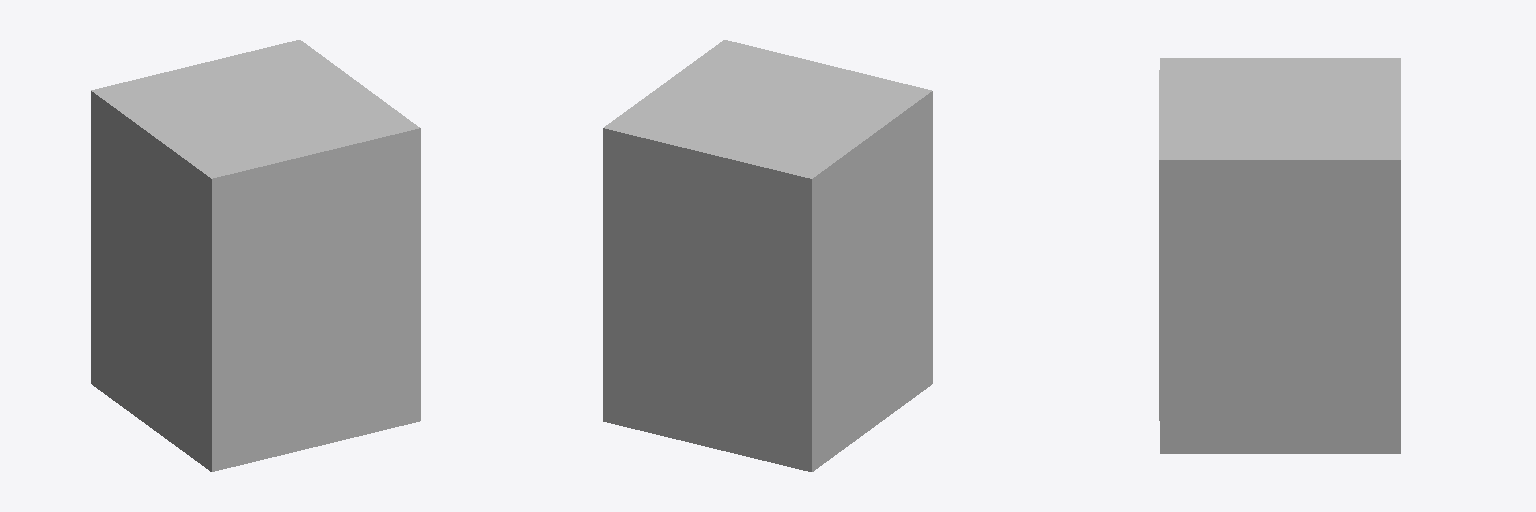
Rendered from carmackCube.obj.
3 views of the same model, side by side, from view 1: azimuth 30°, elevation 25°; view 2: azimuth 150°, elevation 25°; view 3: azimuth 270°, elevation 25° (orthographic).
Visible parts, largest first — view 1: Cube; view 2: Cube; view 3: Cube.
Part boxes in pixels (x1,y1,x2,y2): Cube: (91, 40, 420, 471); Cube: (603, 40, 932, 471); Cube: (1159, 58, 1400, 453).
Bounding box in the file's own units: 2 × 2.68 × 2.01.